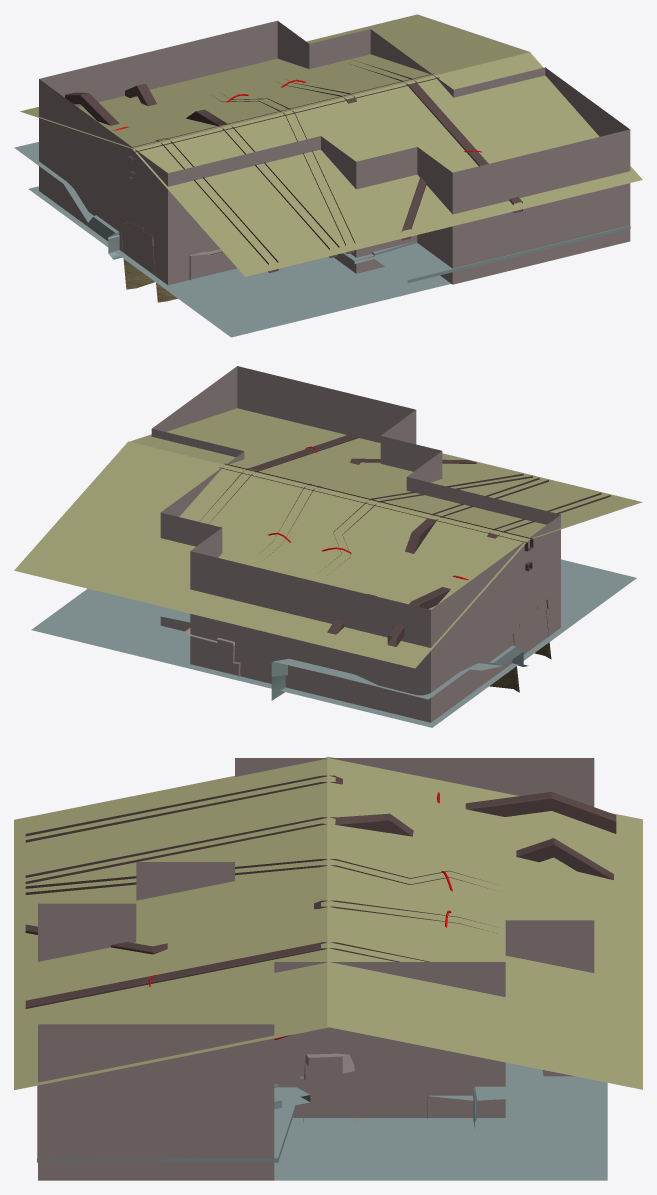
The model's file is NIVEL 1 XD.fbx.
The picture shows the model from 3 angles, top to bottom: view 1: azimuth 30°, elevation 25°; view 2: azimuth 150°, elevation 25°; view 3: azimuth 270°, elevation 25°; orthographic projection. The views are drawn at different scales.
Parts seen in each view (by area): view 1: polySurface298, polySurface264, polySurface265, polySurface299, PISO1, polySurface268, polySurface259, polySurface289, polySurface291, polySurface283, polySurface290, polySurface266 (+3 smaller); view 2: polySurface299, polySurface264, polySurface298, polySurface265, PISO1, polySurface259, polySurface289, polySurface290, polySurface291, polySurface283, polySurface294, polySurface292 (+2 smaller); view 3: polySurface299, polySurface298, polySurface265, PISO1, polySurface259, polySurface264, polySurface290, polySurface291, polySurface283, polySurface268, polySurface275, polySurface292 (+2 smaller).
Boxes of the visible parts, box(x1,y1,x2,y2) form: polySurface298: box(132, 52, 642, 276); polySurface264: box(39, 20, 320, 285); polySurface265: box(321, 67, 630, 284); polySurface299: box(20, 14, 530, 148); PISO1: box(28, 186, 450, 337); polySurface268: box(340, 225, 630, 282); polySurface259: box(309, 29, 453, 97); polySurface289: box(14, 142, 121, 259); polySurface291: box(125, 83, 339, 258); polySurface283: box(354, 62, 522, 213); polySurface290: box(65, 92, 278, 272); polySurface266: box(120, 221, 177, 302); polySurface299: box(14, 441, 528, 668); polySurface264: box(190, 477, 560, 722); polySurface298: box(130, 408, 642, 539); polySurface265: box(151, 366, 442, 482); PISO1: box(31, 559, 636, 727); polySurface259: box(160, 451, 244, 631); polySurface289: box(271, 645, 528, 700); polySurface290: box(387, 493, 610, 646); polySurface291: box(327, 477, 548, 634); polySurface283: box(199, 434, 359, 522); polySurface294: box(219, 463, 533, 551); polySurface292: box(326, 473, 532, 566); polySurface299: box(327, 756, 642, 1089); polySurface298: box(14, 757, 328, 1090); polySurface265: box(38, 862, 274, 1180); PISO1: box(274, 1076, 607, 1180); polySurface259: box(274, 962, 505, 1117); polySurface264: box(235, 758, 594, 1076); polySurface290: box(25, 775, 616, 842); polySurface291: box(25, 813, 613, 883); polySurface283: box(25, 942, 429, 1008); polySurface268: box(37, 1085, 296, 1162); polySurface275: box(473, 1062, 546, 1128); polySurface292: box(25, 859, 487, 894).
Size of the model in its own units: 1331 by 476 by 1278.
